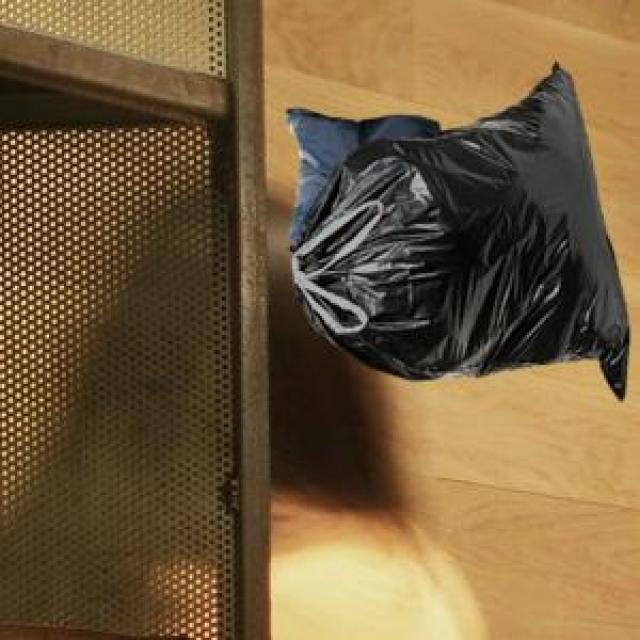waste: (288, 64, 628, 398)
